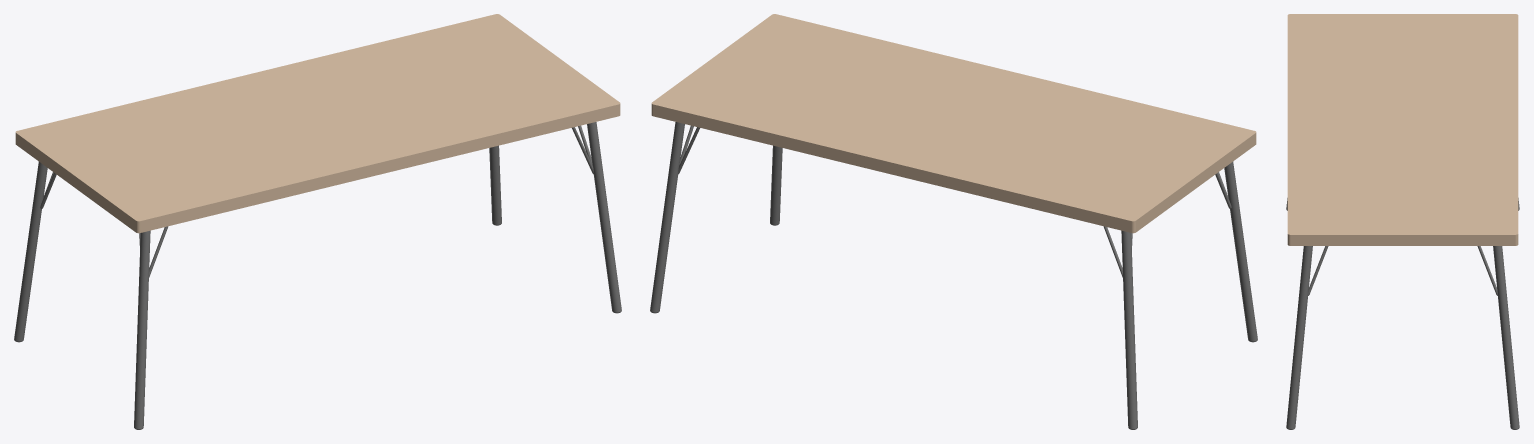
The model's file is 569_ダイニングテーブル6人掛け.glb.
3 views of the same model, side by side, from view 1: azimuth 30°, elevation 25°; view 2: azimuth 150°, elevation 25°; view 3: azimuth 270°, elevation 25° (orthographic). The views are drawn at different scales.
Parts seen in each view (by area): view 1: Body; view 2: Body; view 3: Body.
Boxes of the visible parts, x1,y1,x2,y2 form: Body: [14, 14, 621, 429]; Body: [650, 14, 1257, 429]; Body: [1286, 14, 1519, 429].
Bounding box in the file's own units: 1.71 × 0.7 × 0.759.
